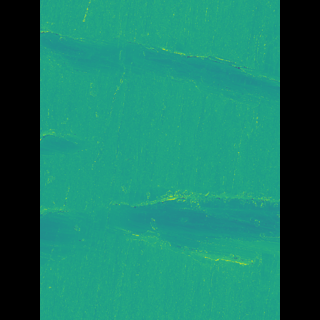Loch: (69, 0, 249, 111), (69, 185, 250, 288), (69, 128, 111, 161)
